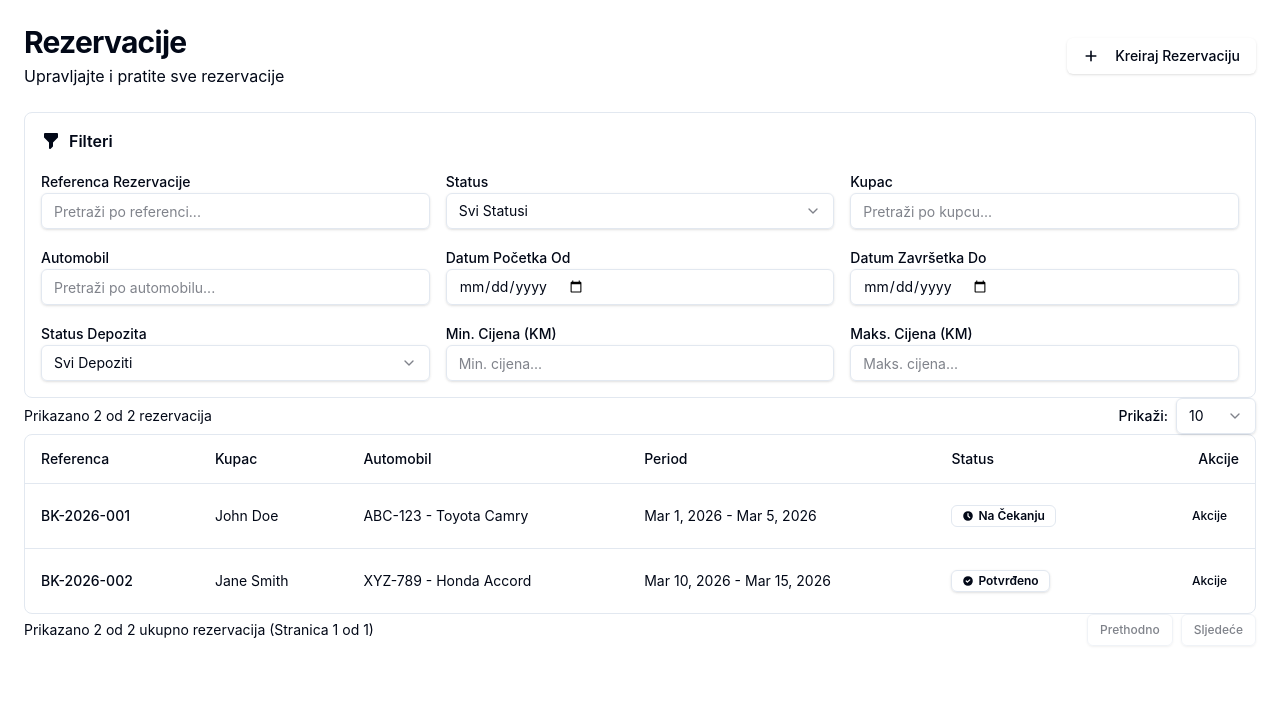
Test case: BookingsPage › Optimistic Updates › should update booking status optimistically on confirm
The width and height of the screenshot is (1280, 720).
Expected: the text "Na Čekanju" is shown, [951, 504, 1056, 526]
What coordinates should you click on to do the following:
click the button "Akcije" in the row of "BK-2026-001"
I would click on:
 (1210, 516)
Its box is [1180, 500, 1239, 532].
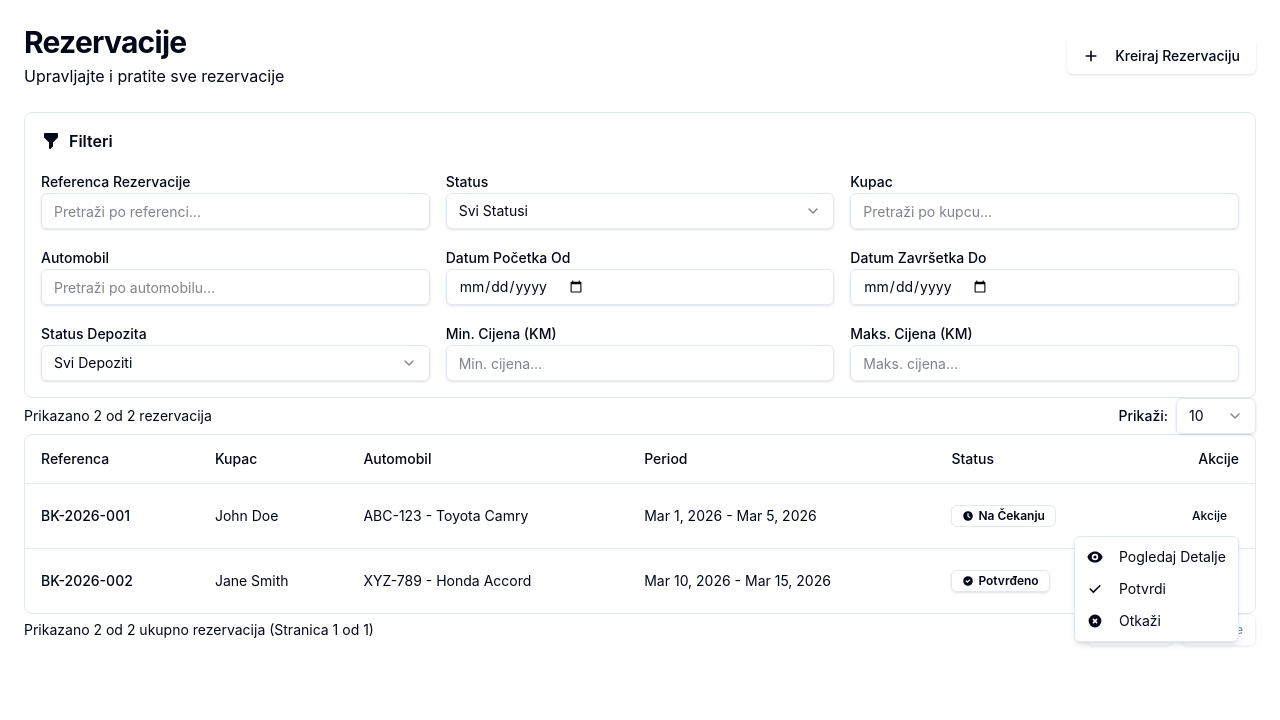
What coordinates should you click on to do the following:
click the menu item "Potvrdi"
I would click on:
 (1126, 588)
Its box is [1087, 580, 1166, 597].
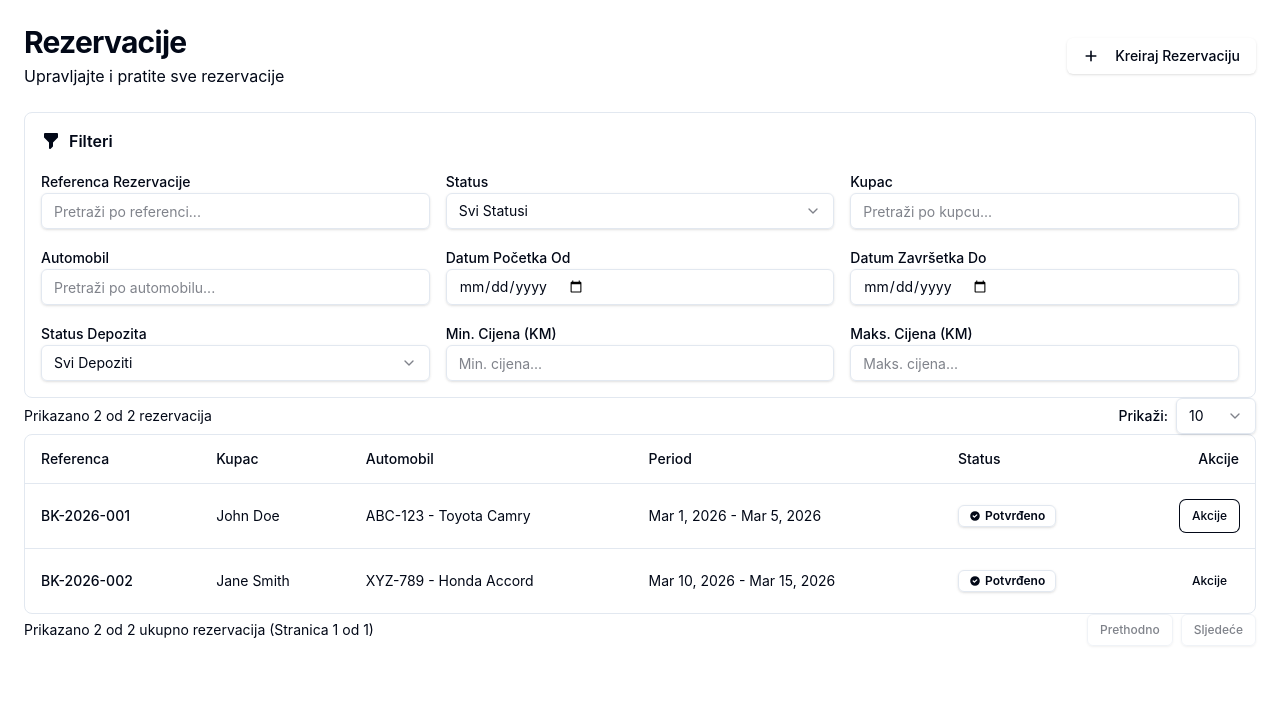
Now the text "Potvrđeno" in the row of "BK-2026-001" is shown, box [985, 508, 1045, 522]
